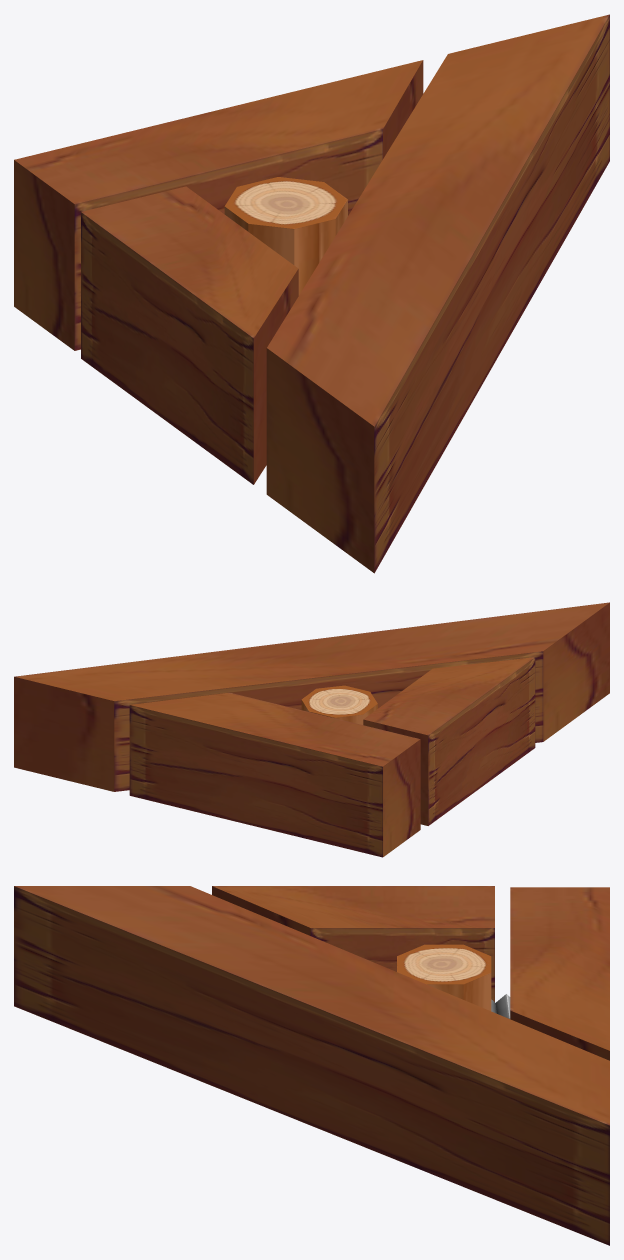
The model's file is triangle_red_04.fbx.
3 renders of one model, top to bottom at view 1: azimuth 30°, elevation 25°; view 2: azimuth 150°, elevation 25°; view 3: azimuth 270°, elevation 25°, orthographic. The views are drawn at different scales.
Visible parts, largest first — view 1: wall_69, wall_67, wall_68, Middle_12; view 2: wall_69, wall_68, wall_67, Middle_12; view 3: wall_69, wall_68, wall_67, Middle_12.
Boxes of the visible parts, left/top/right/bottom form: wall_69: left=266, top=14, right=609, bottom=573; wall_67: left=81, top=186, right=298, bottom=484; wall_68: left=14, top=60, right=423, bottom=350; Middle_12: left=224, top=177, right=347, bottom=295; wall_69: left=14, top=602, right=609, bottom=791; wall_68: left=129, top=692, right=420, bottom=857; wall_67: left=363, top=657, right=535, bottom=825; Middle_12: left=301, top=685, right=377, bottom=724; wall_69: left=14, top=886, right=609, bottom=1245; wall_68: left=510, top=887, right=609, bottom=1060; wall_67: left=212, top=886, right=494, bottom=1001; Middle_12: left=397, top=944, right=491, bottom=1010.
Bounding box in the file's own units: 171 × 40 × 180.
